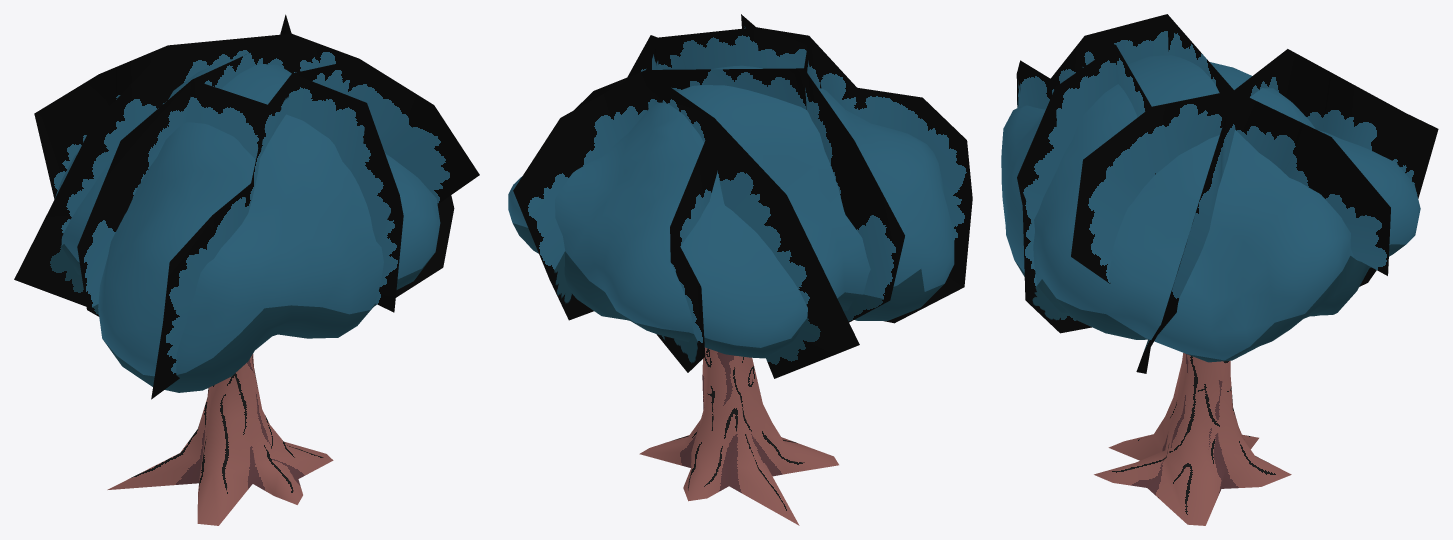
File: TreeLargeNight.glb
3 views of the same model, side by side, from view 1: azimuth 30°, elevation 25°; view 2: azimuth 150°, elevation 25°; view 3: azimuth 270°, elevation 25° (orthographic). The views are drawn at different scales.
Parts seen in each view (by area): view 1: BushLarge, LeafLarge, TreeLarge; view 2: BushLarge, LeafLarge, TreeLarge; view 3: BushLarge, LeafLarge, TreeLarge.
Part boxes in pixels (<box>): BushLarge: <box>55,59,440,392</box>; LeafLarge: <box>14,14,479,399</box>; TreeLarge: <box>107,354,333,525</box>; BushLarge: <box>508,65,954,358</box>; LeafLarge: <box>513,14,972,378</box>; TreeLarge: <box>639,347,838,525</box>; BushLarge: <box>1001,55,1420,362</box>; LeafLarge: <box>1016,14,1438,373</box>; TreeLarge: <box>1094,353,1291,525</box>.
Size of the model in its own units: 10.38 by 11.62 by 10.22.
3 materials, 3 textured.
